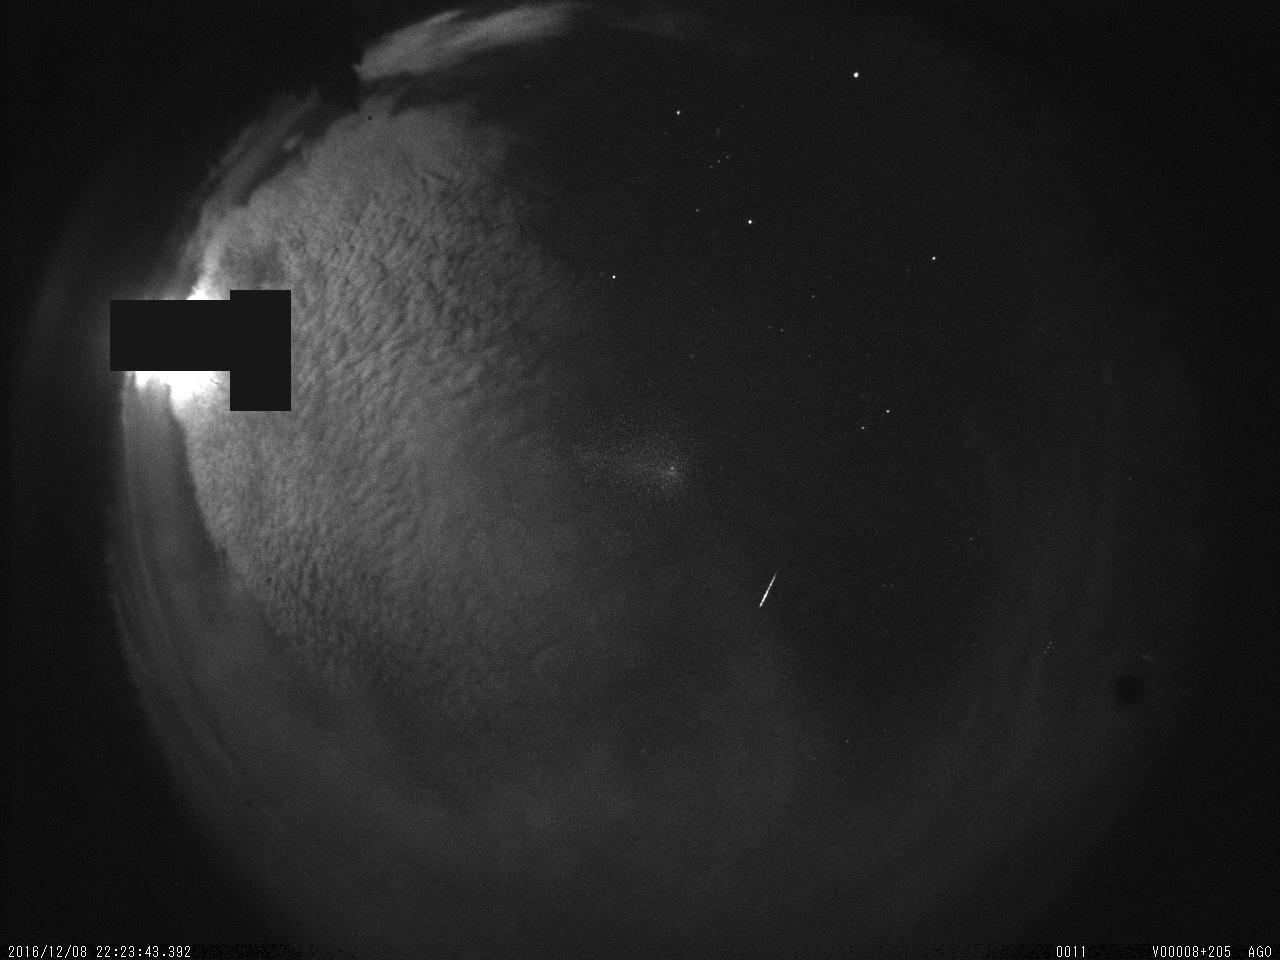meteor: (747, 558, 792, 616)
